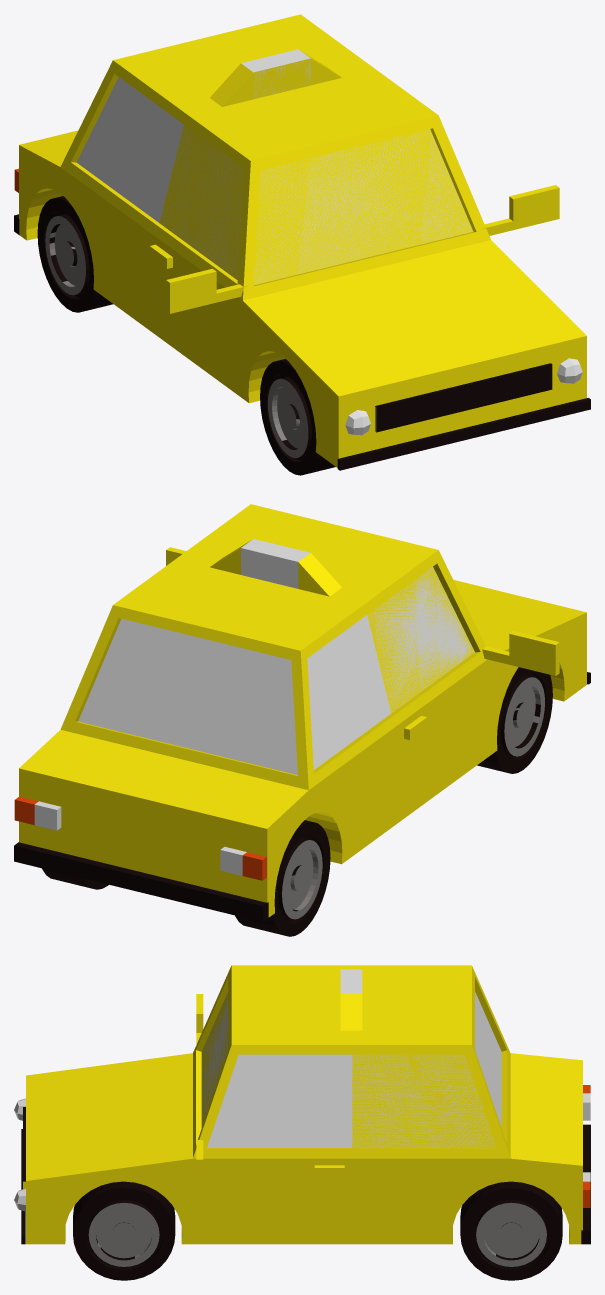
File: car.fbx
3 renders of one model, top to bottom at view 1: azimuth 30°, elevation 25°; view 2: azimuth 150°, elevation 25°; view 3: azimuth 270°, elevation 25°, orthographic. The views are drawn at different scales.
Parts seen in each view (by area): view 1: Cube, Cube.001, Cube.006, Cube.005, Cube.002; view 2: Cube, Cube.001, Cube.006, Cube.005; view 3: Cube, Cube.005, Cube.006, Cube.001.
Boxes of the visible parts, x1,y1,x2,y2 form: Cube: (19, 14, 586, 467); Cube.001: (14, 168, 559, 432); Cube.006: (37, 196, 113, 312); Cube.005: (260, 359, 335, 475); Cube.002: (337, 398, 590, 470); Cube: (19, 504, 586, 917); Cube.001: (14, 547, 559, 922); Cube.006: (42, 820, 330, 936); Cube.005: (477, 667, 552, 773); Cube: (26, 965, 582, 1244); Cube.005: (73, 1181, 175, 1280); Cube.006: (460, 1181, 562, 1280); Cube.001: (23, 994, 590, 1244).
Size of the model in its own units: 398 by 280 by 586.
